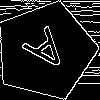A: (20, 26, 78, 83)
